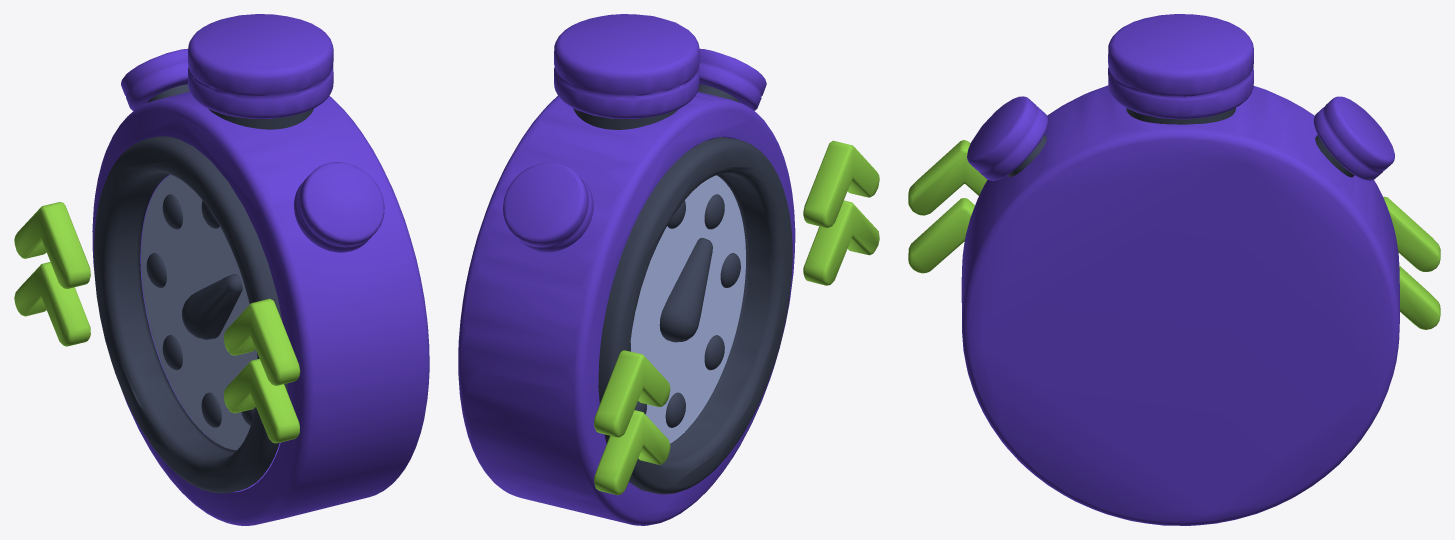
File: Time.fbx
The picture shows the model from 3 angles, left to right: view 1: azimuth 30°, elevation 25°; view 2: azimuth 150°, elevation 25°; view 3: azimuth 270°, elevation 25°; orthographic projection.
Parts seen in each view (by area): view 1: Cylinder.012; view 2: Cylinder.012; view 3: Cylinder.012.
Part boxes in pixels (<box>): Cylinder.012: <box>14,14,429,525</box>; Cylinder.012: <box>458,14,879,525</box>; Cylinder.012: <box>908,14,1440,525</box>.
Bounding box in the file's own units: 5.41 × 12.93 × 13.66.
